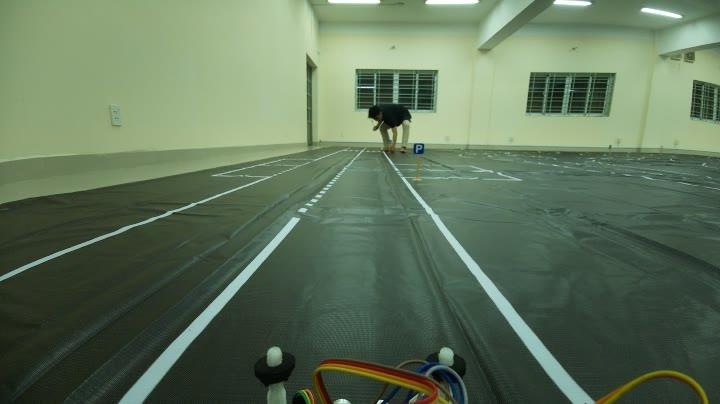parking: (409, 141, 428, 158)
